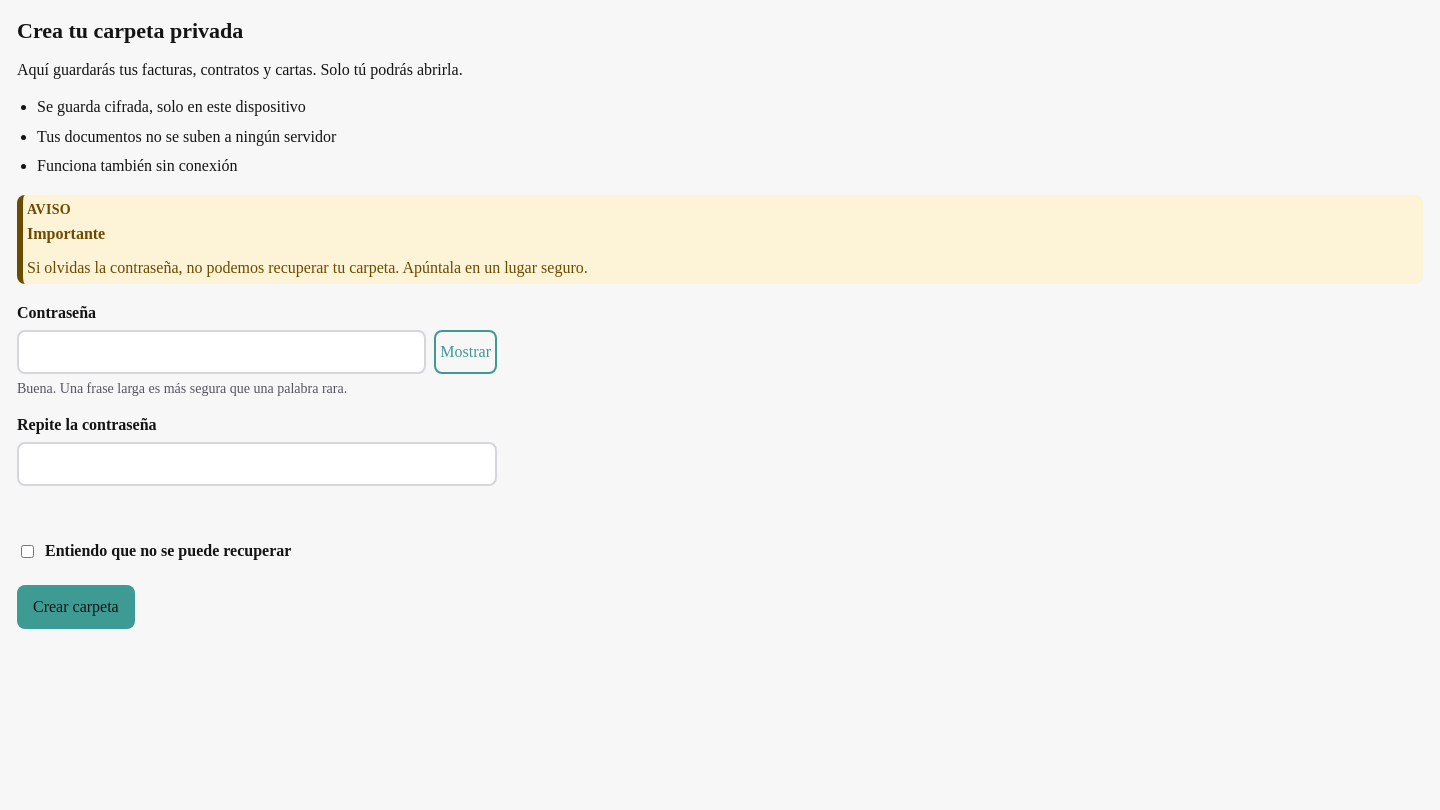
Test: CrearCarpeta › con contraseñas distintas avisa y no crea nada
The image size is (1440, 810).
In the password field labelled "Contraseña": (222,352) [17, 330, 426, 374], type "frase-larga-de-prueba"
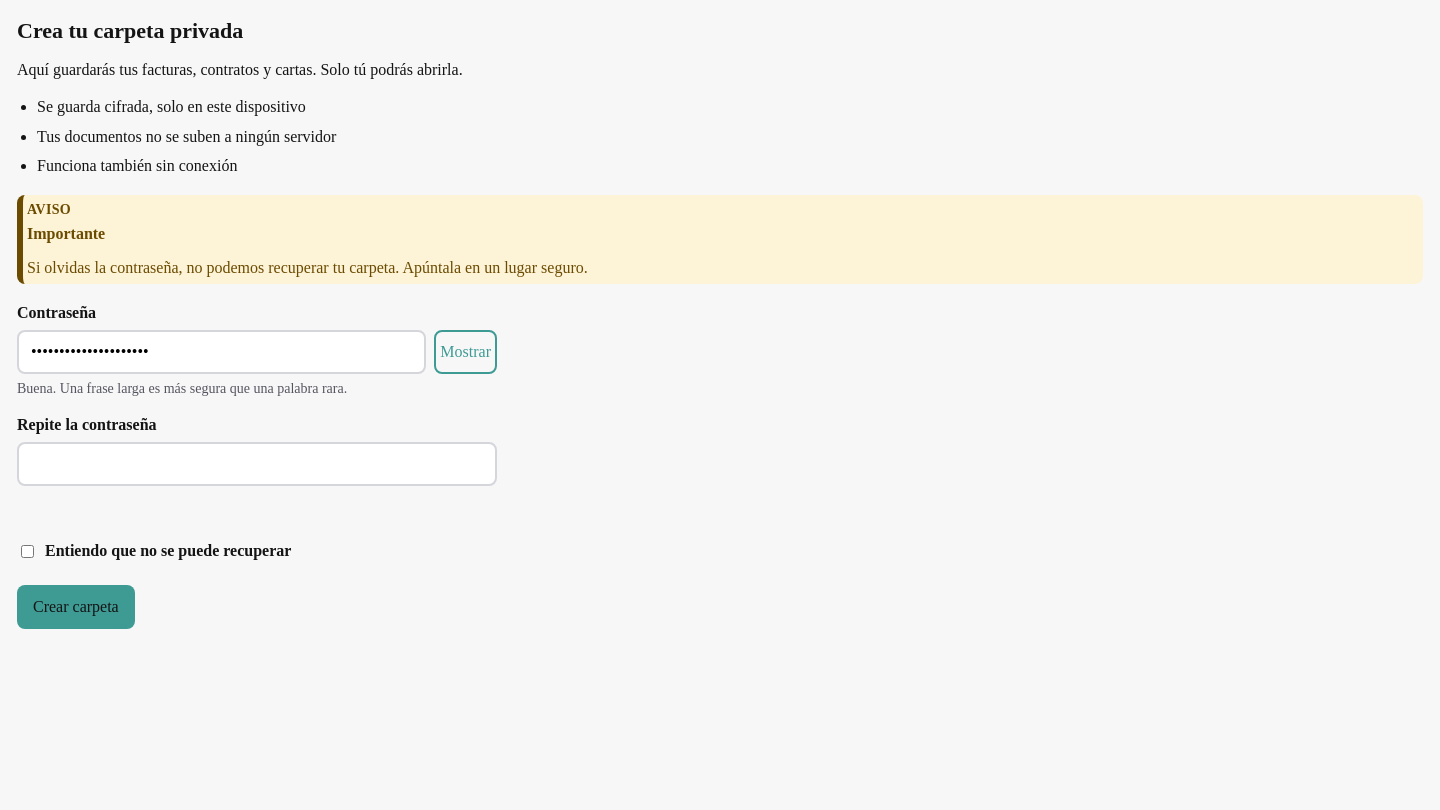
In the password field labelled "Repite la contraseña": (257,464) [17, 442, 497, 486], type "otra-clave-distinta"
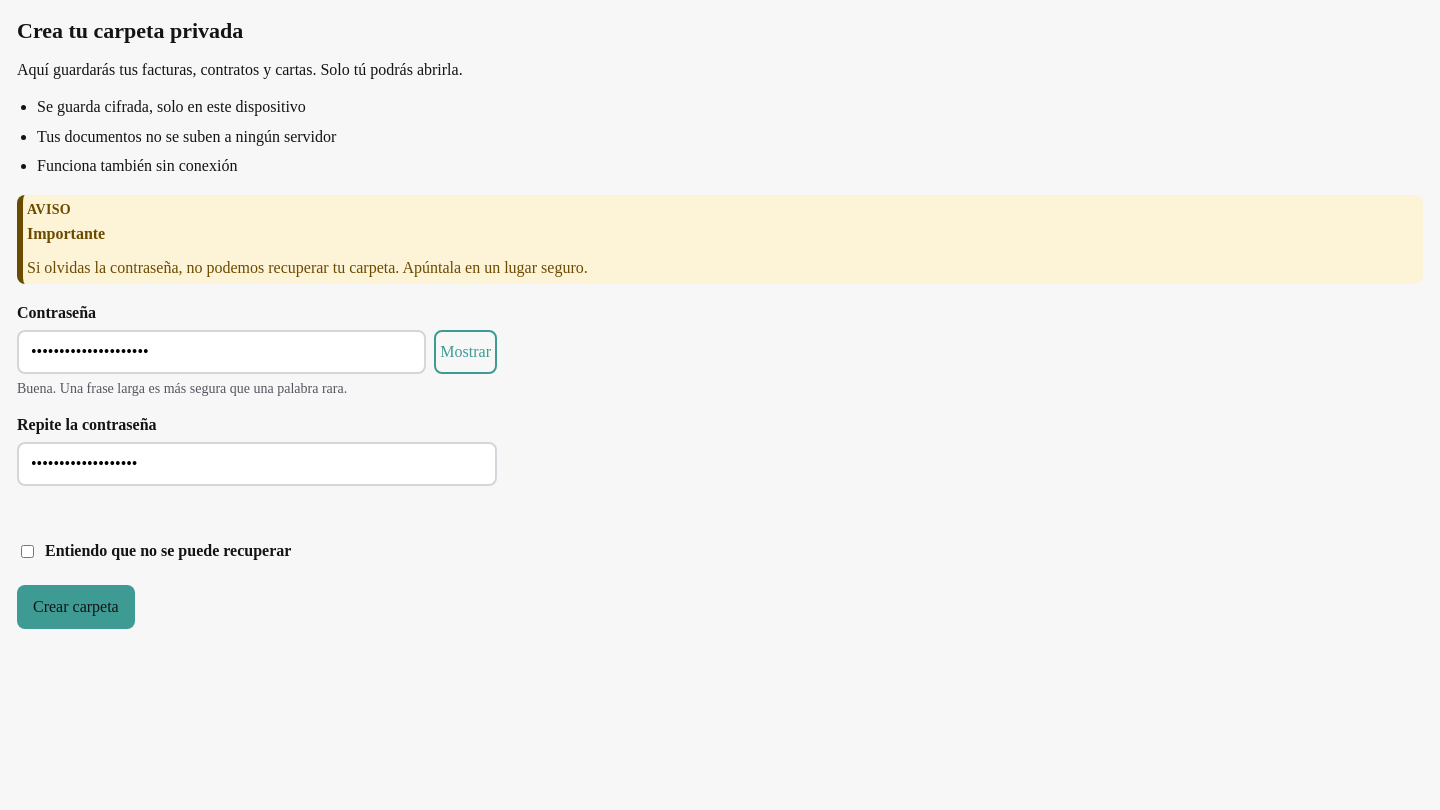
Click the checkbox labelled "Entiendo que no se puede recuperar": (28,551) [21, 545, 34, 558]
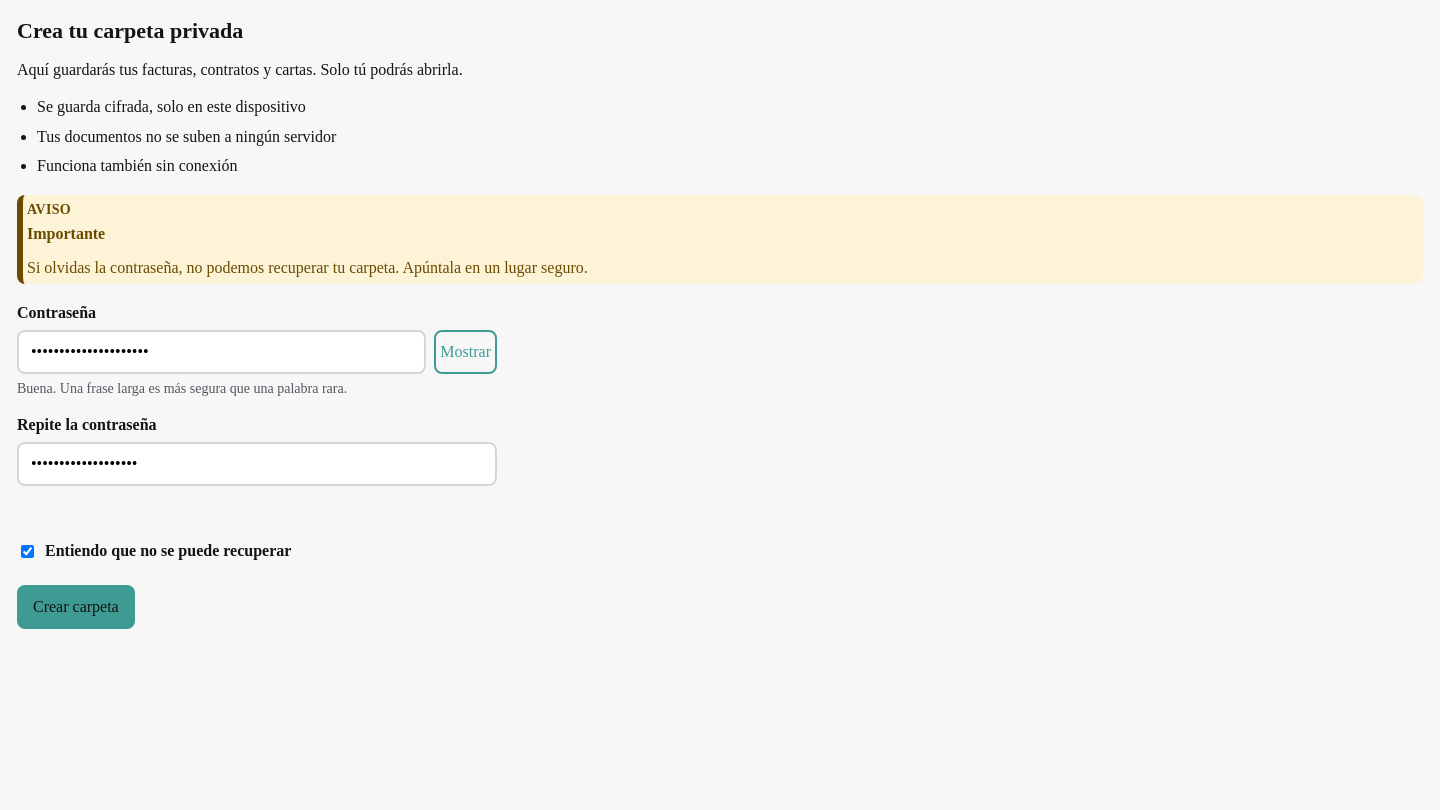
Click the button "Crear carpeta": (76,607) [17, 585, 135, 629]
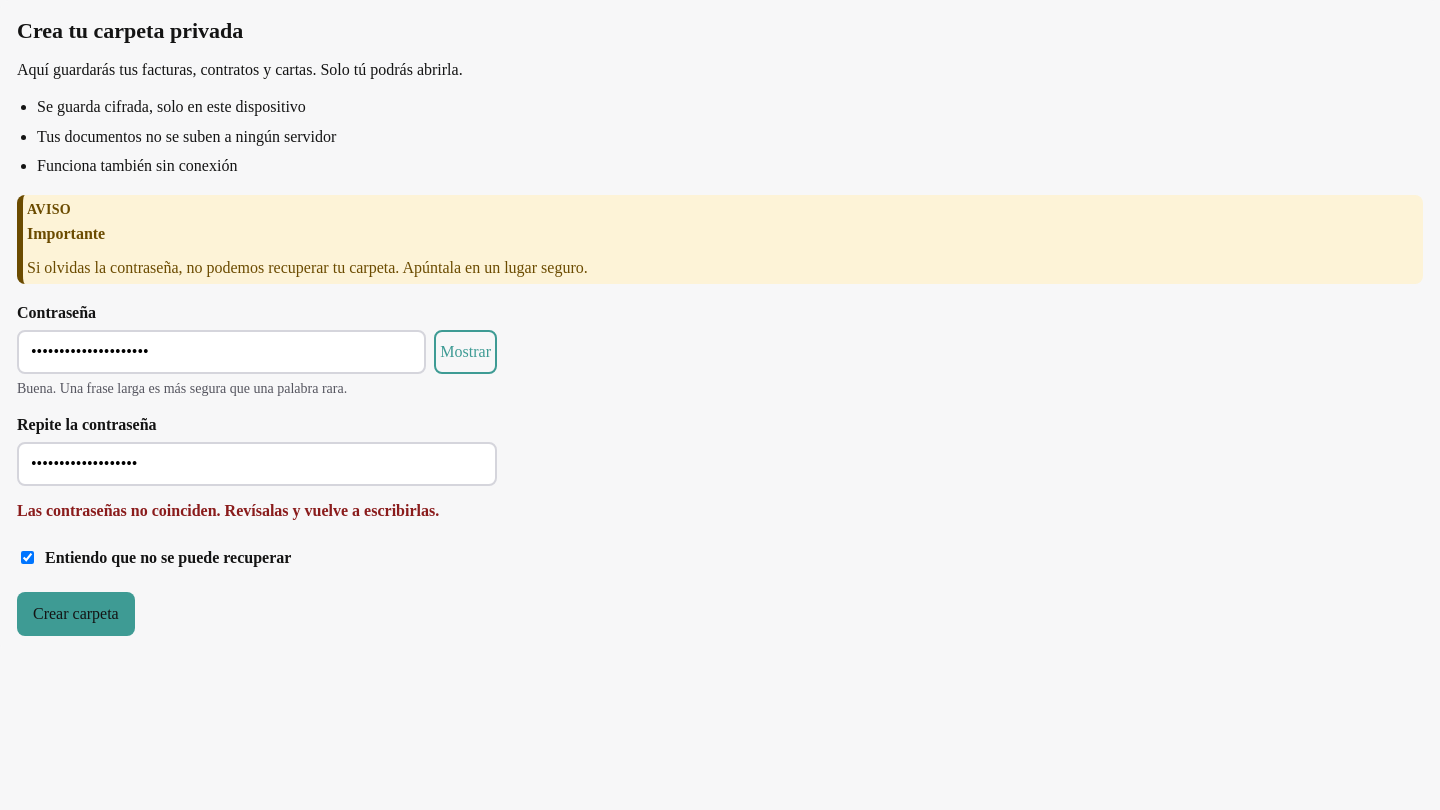
Expected: the text "no coinciden" is shown, [17, 502, 439, 519]
